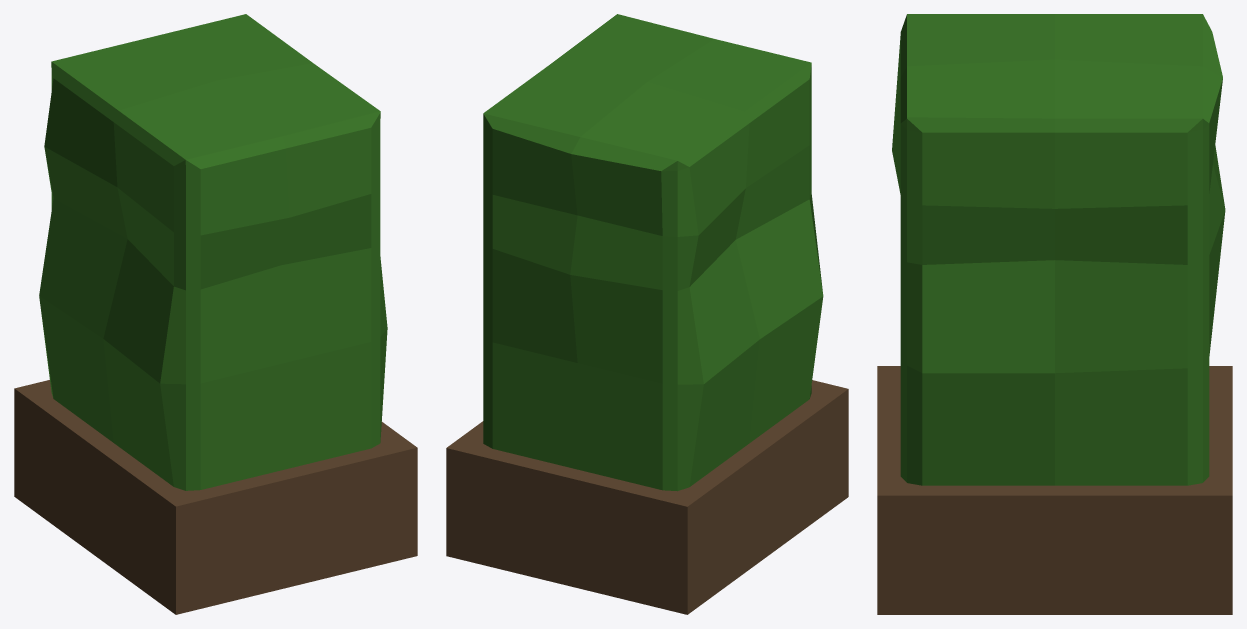
Rendered from Hedges_04.fbx.
The picture shows the model from 3 angles, left to right: view 1: azimuth 30°, elevation 25°; view 2: azimuth 150°, elevation 25°; view 3: azimuth 270°, elevation 25°; orthographic projection. The views are drawn at different scales.
Parts seen in each view (by area): view 1: polySurface7; view 2: polySurface7; view 3: polySurface7.
Boxes of the visible parts, box(x1,y1,x2,y2) form: polySurface7: box(14, 14, 417, 614); polySurface7: box(446, 14, 848, 614); polySurface7: box(877, 14, 1232, 614).
Size of the model in its own units: 85.65 by 151 by 99.12.
